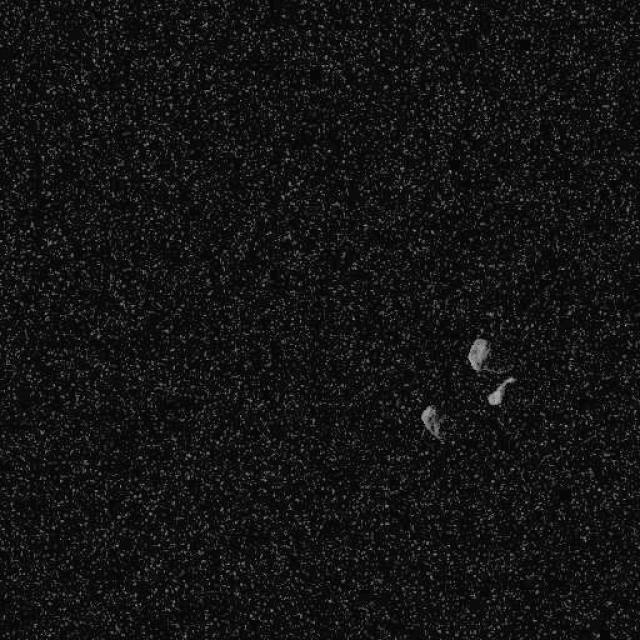D2: (419, 403, 445, 442), (485, 375, 516, 406), (466, 337, 490, 372)
